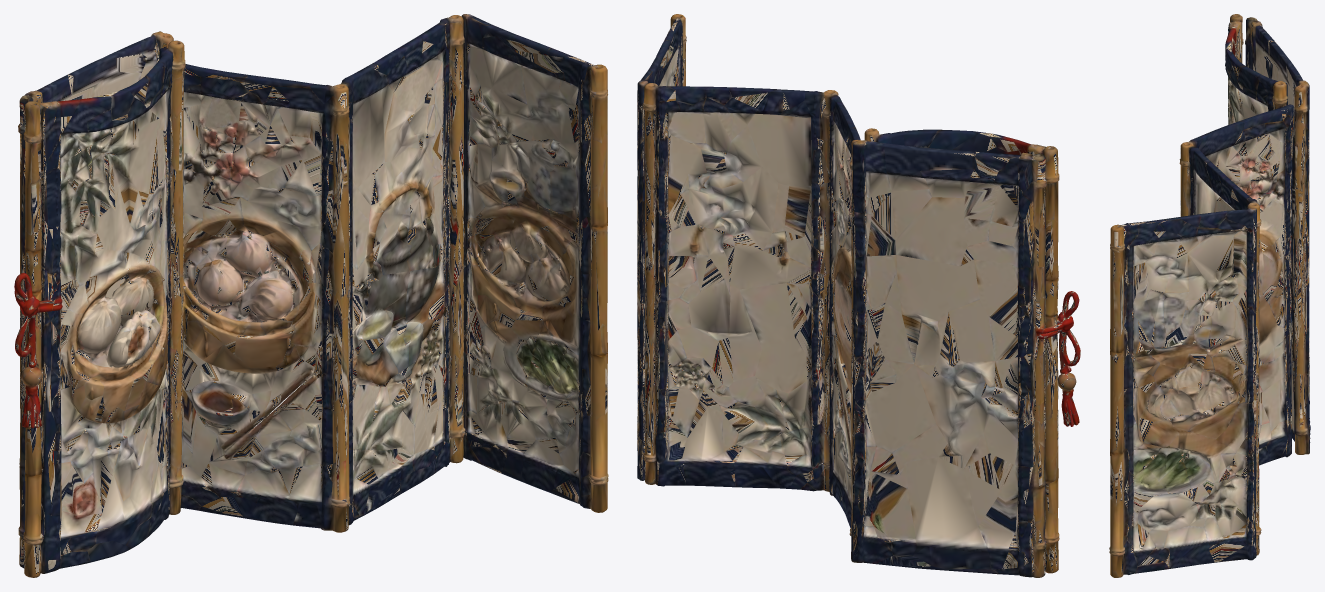
The model's file is product.glb.
3 renders of one model, left to right at view 1: azimuth 30°, elevation 25°; view 2: azimuth 150°, elevation 25°; view 3: azimuth 270°, elevation 25°, orthographic. The views are drawn at different scales.
Bounding box in the file's own units: 1.9 × 1.64 × 0.8016.
1 material, 1 textured.
